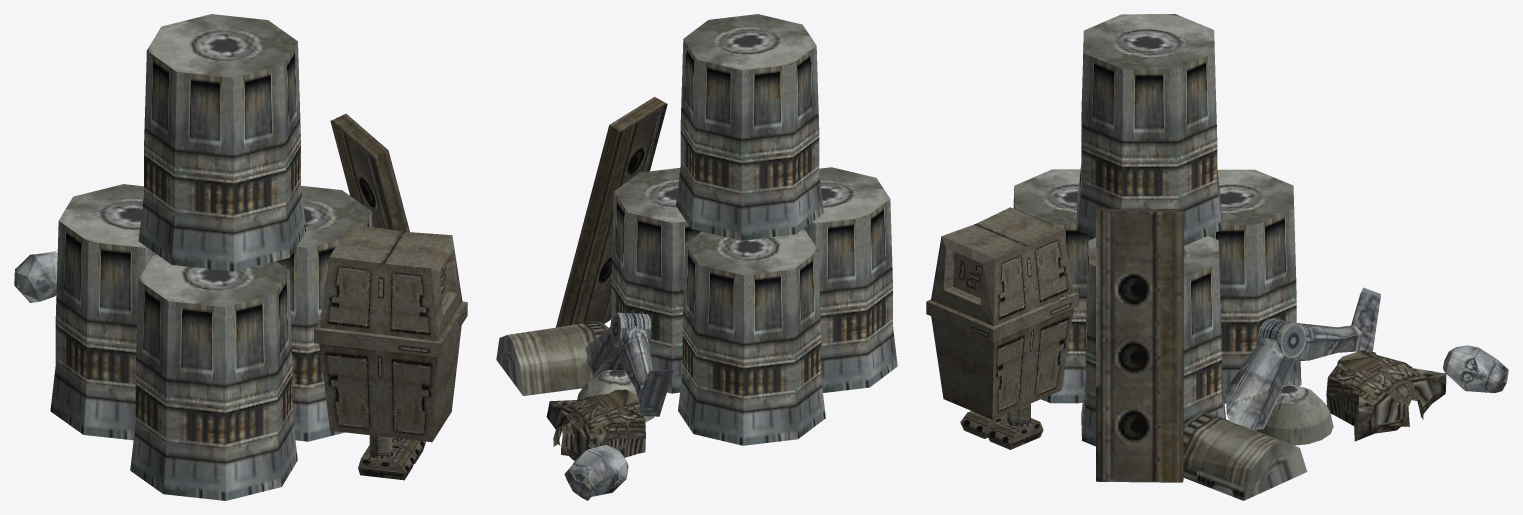
The model's file is eaw_crates9.glb.
3 renders of one model, left to right at view 1: azimuth 30°, elevation 25°; view 2: azimuth 150°, elevation 25°; view 3: azimuth 270°, elevation 25°, orthographic. The views are drawn at different scales.
Visible parts, largest first — view 1: clusterB_04_0; view 2: clusterB_04_0; view 3: clusterB_04_0.
Part boxes in pixels (<box>): clusterB_04_0: <box>14,14,467,500</box>; clusterB_04_0: <box>496,14,897,500</box>; clusterB_04_0: <box>926,14,1508,500</box>.
Bounding box in the file's own units: 3.46 × 3.59 × 5.37.
1 material, 1 textured.
